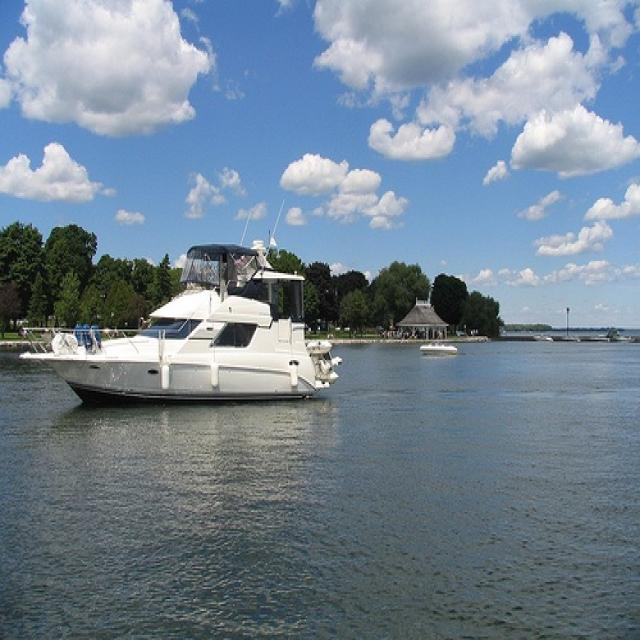boat: (18, 196, 339, 410), (420, 338, 457, 355)
